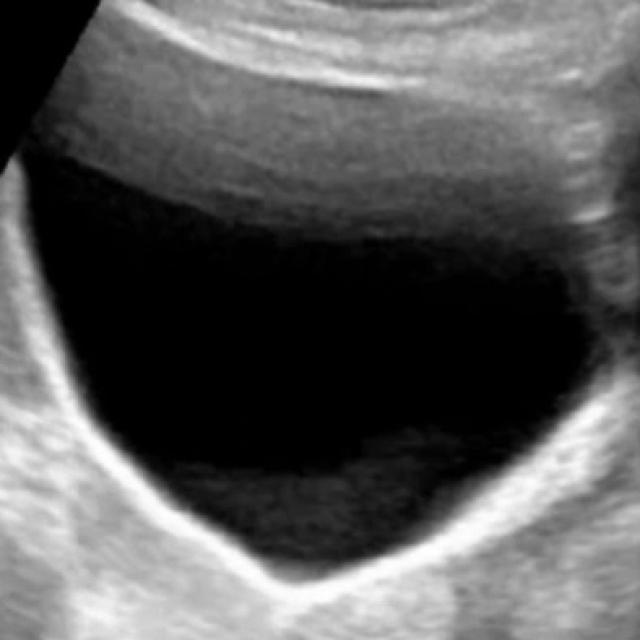bladder: (8, 5, 627, 611)
